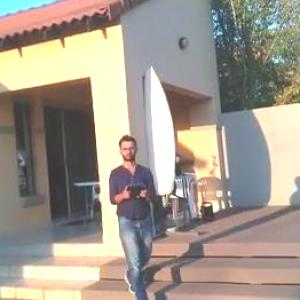follow: (104, 129, 164, 299)
